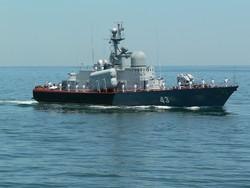warship: (31, 20, 240, 106)
